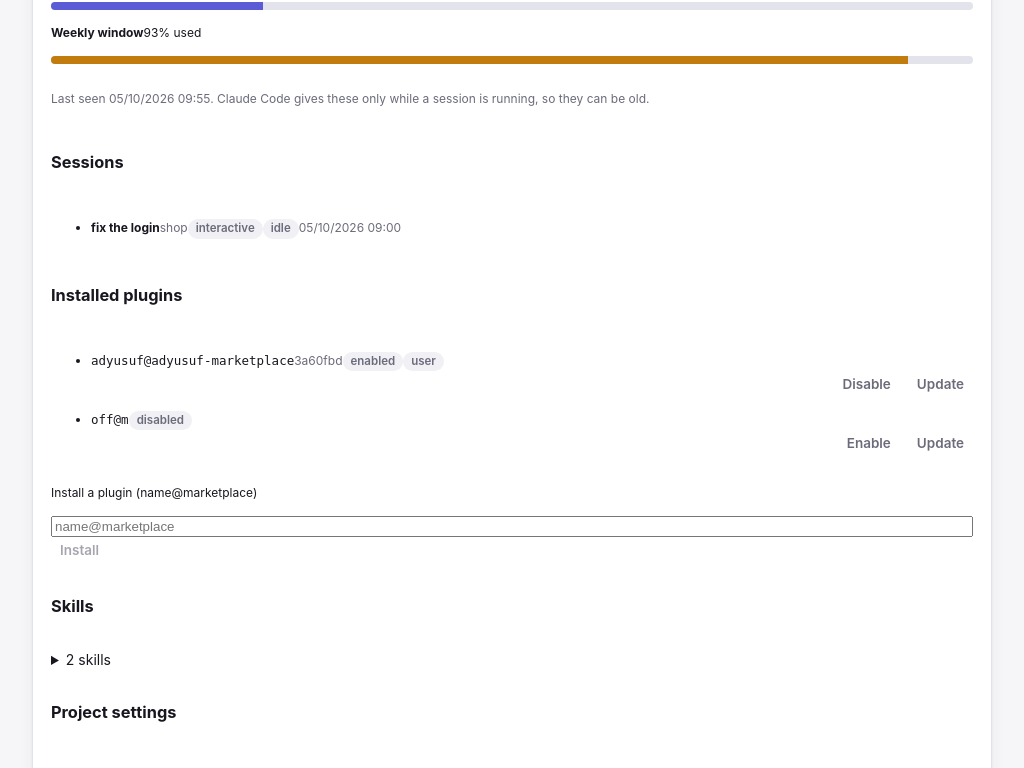
the Claude inventory card on the machine page › shows the reason in words when the API refuses a change
(page scrolled)
Click the 1st button "Update".
click(940, 384)  # box [908,371,973,397]
(page scrolled)
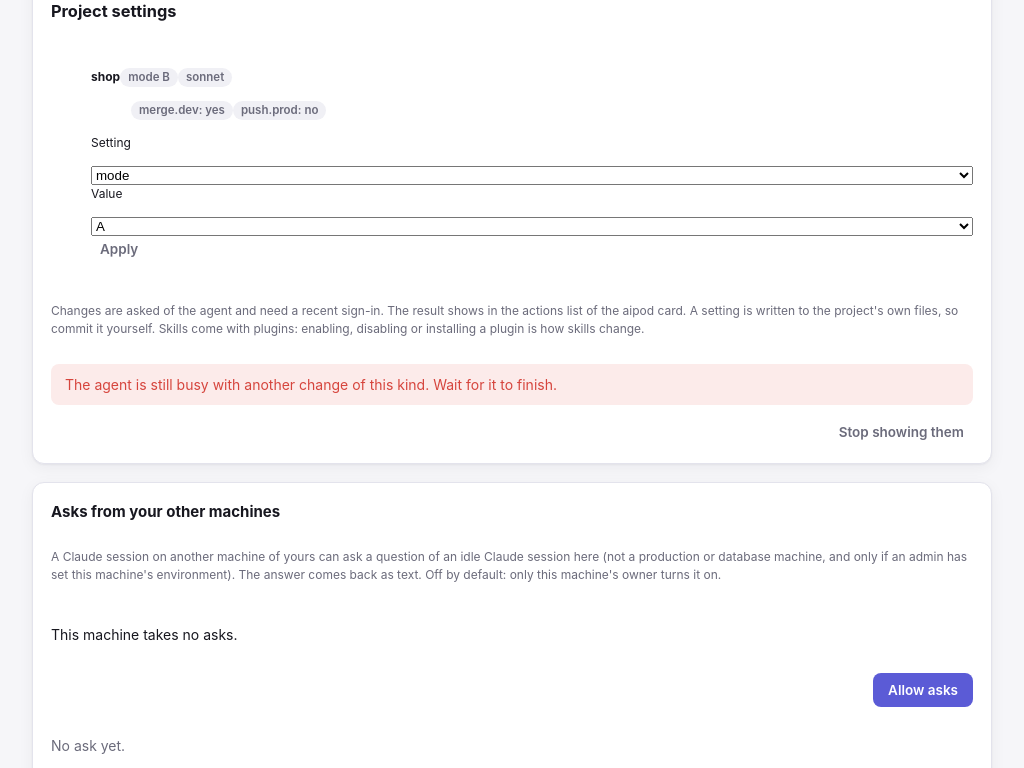
Now the text "The agent is still busy with another change of this kind. Wait for it to finish." is shown, box [51,364,973,405]
